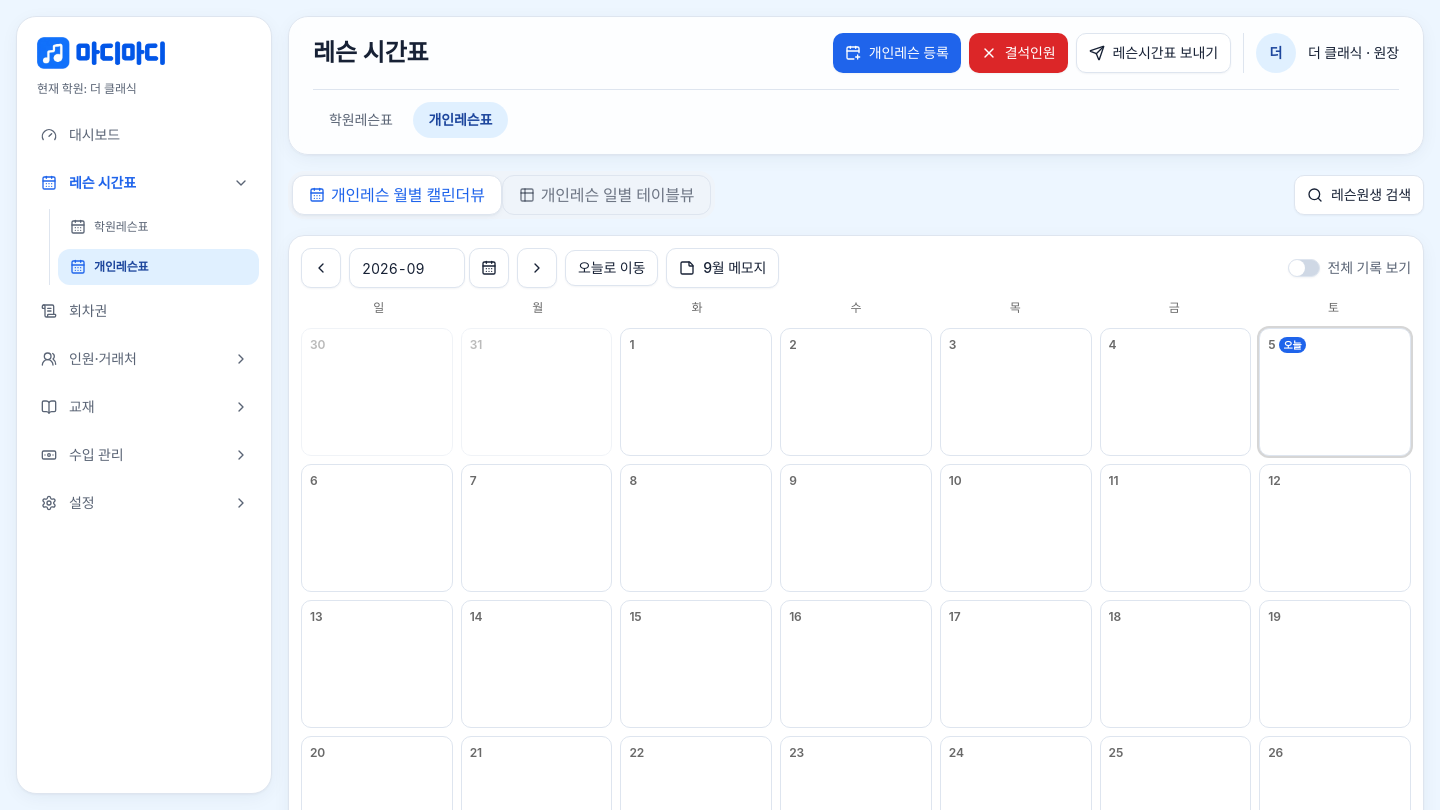
Scenario: LessonsPage › 개인레슨표의 레슨원생 검색은 개인레슨 수강 원생만 보여준다
This screenshot has width=1440, height=810.
Click the button "레슨원생 검색" at (1359, 195), box [1294, 175, 1424, 215]
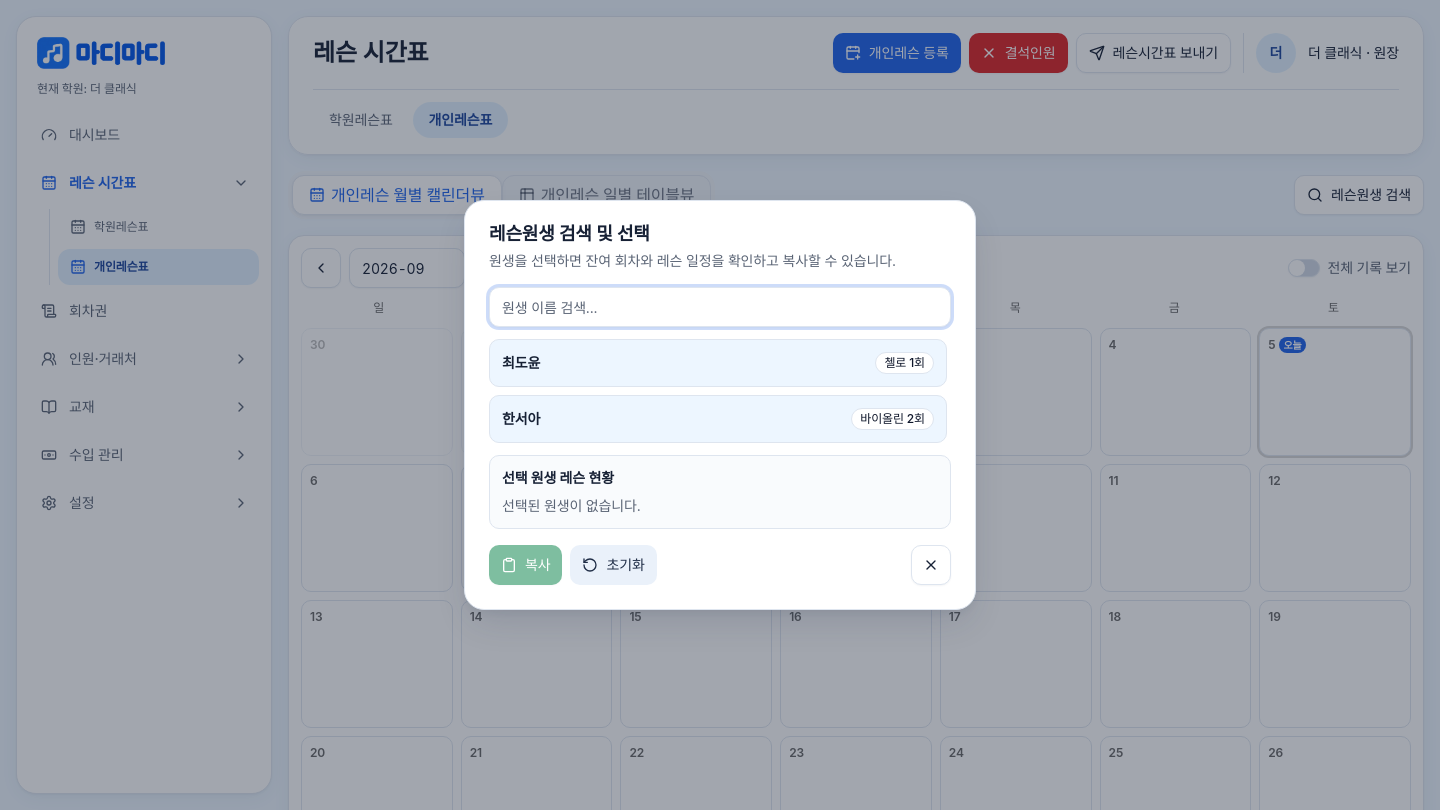
Expected: the text "한서아" is shown, [502, 409, 540, 429]
Expected: the text "최도윤" is shown, [502, 353, 540, 373]
